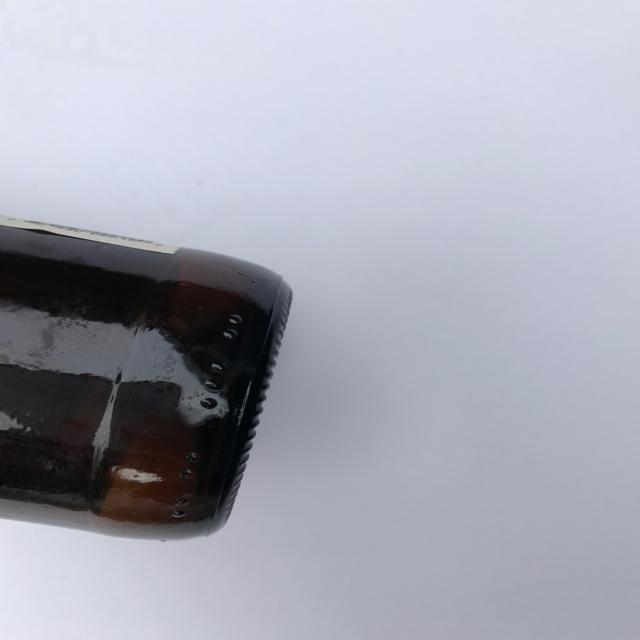glass: (0, 212, 293, 542)
